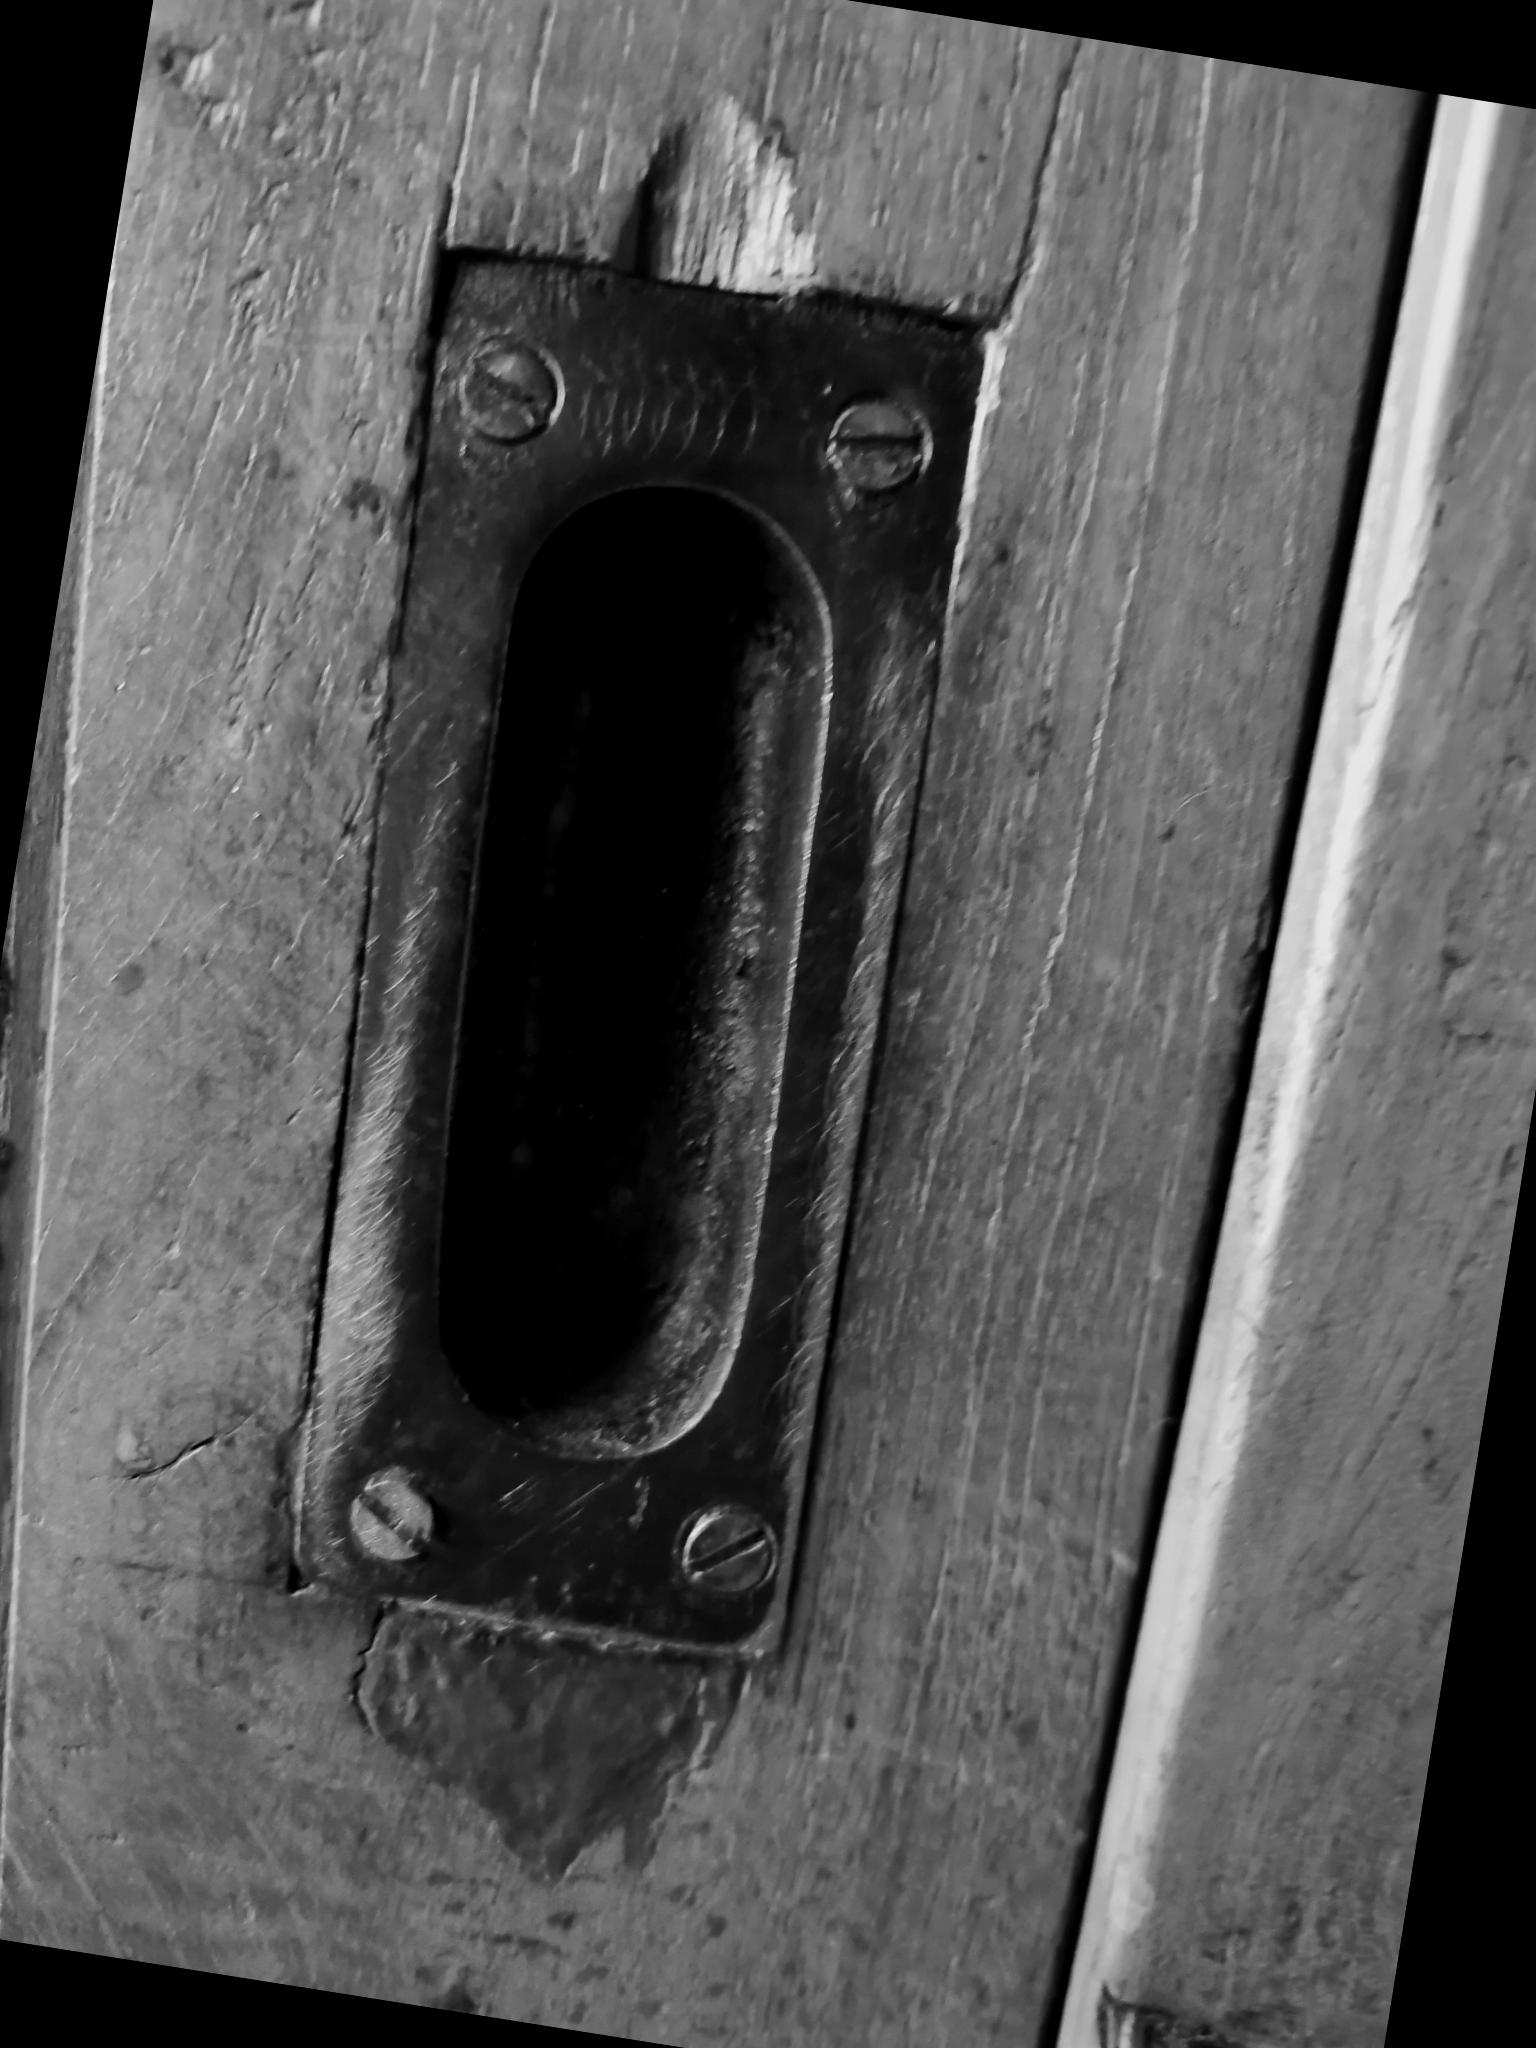slotted: (424, 323, 579, 471), (807, 382, 949, 516), (334, 1463, 452, 1584), (668, 1498, 783, 1613)
